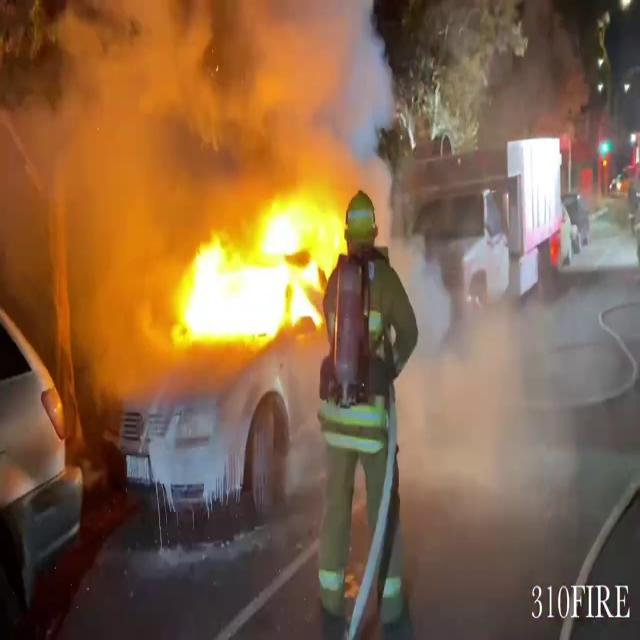Fire: (162, 185, 340, 354)
Smoke: (5, 0, 407, 209)
